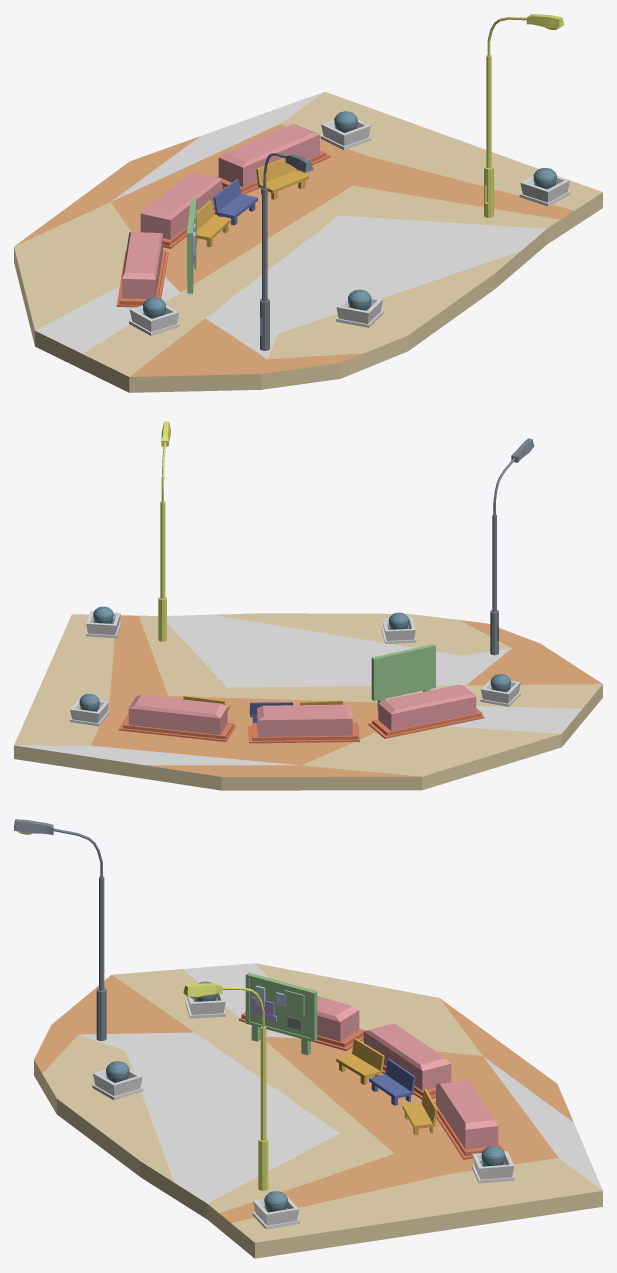
Rendered from 1sss.fbx.
3 renders of one model, top to bottom at view 1: azimuth 30°, elevation 25°; view 2: azimuth 150°, elevation 25°; view 3: azimuth 270°, elevation 25°, orthographic. The views are drawn at different scales.
Parts seen in each view (by area): view 1: Cylinder.005; view 2: Cylinder.005; view 3: Cylinder.005.
Boxes of the visible parts, box(x1,y1,x2,y2) form: Cylinder.005: box(14, 14, 602, 392); Cylinder.005: box(14, 421, 602, 790); Cylinder.005: box(14, 819, 602, 1258).
Bounding box in the file's own units: 376 × 147 × 335.
